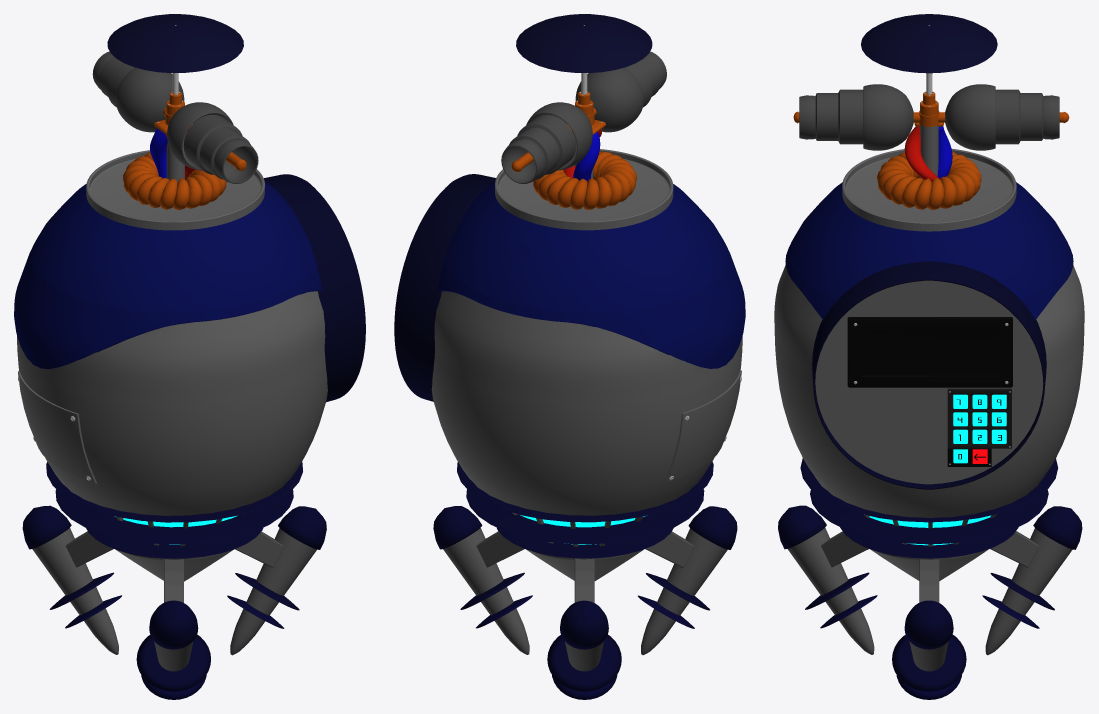
Rendered from Maquina Del Tiempo.fbx.
3 views of the same model, side by side, from view 1: azimuth 30°, elevation 25°; view 2: azimuth 150°, elevation 25°; view 3: azimuth 270°, elevation 25° (orthographic).
Visible parts, largest first — view 1: Cuerpo, Antena, Cara, TapaArriba, Pata2, Pata1, Pata3, Aro2, AnilloCobre, Aro3, Aro1, ConoAbajo (+1 smaller); view 2: Cuerpo, Antena, Cara, TapaArriba, Pata3, Pata2, Pata1, Aro2, AnilloCobre, Aro3, Aro1, ConoAbajo (+1 smaller); view 3: Cuerpo, Cara, Antena, Display, TapaArriba, Pata1, Pata3, Pata2, Aro2, AnilloCobre, Aro3, Aro1 (+2 smaller).
Part boxes in pixels (x1=…): Cuerpo: x1=14, y1=182, x2=327, y2=515; Antena: x1=92, y1=14, x2=258, y2=183; Cara: x1=264, y1=174, x2=365, y2=402; TapaArriba: x1=86, y1=120, x2=264, y2=230; Pata2: x1=227, y1=506, x2=326, y2=655; Pata1: x1=22, y1=505, x2=121, y2=654; Pata3: x1=136, y1=559, x2=210, y2=699; Aro2: x1=55, y1=489, x2=293, y2=544; AnilloCobre: x1=123, y1=152, x2=226, y2=209; Aro3: x1=46, y1=461, x2=302, y2=522; Aro1: x1=86, y1=528, x2=263, y2=558; ConoAbajo: x1=115, y1=549, x2=233, y2=581; Cuerpo: x1=431, y1=182, x2=745, y2=515; Antena: x1=501, y1=14, x2=666, y2=183; Cara: x1=394, y1=174, x2=495, y2=401; TapaArriba: x1=495, y1=120, x2=673, y2=230; Pata3: x1=638, y1=506, x2=737, y2=655; Pata2: x1=433, y1=506, x2=532, y2=654; Pata1: x1=547, y1=558, x2=621, y2=699; Aro2: x1=466, y1=489, x2=704, y2=544; AnilloCobre: x1=533, y1=151, x2=636, y2=209; Aro3: x1=457, y1=461, x2=713, y2=522; Aro1: x1=496, y1=527, x2=673, y2=558; ConoAbajo: x1=526, y1=549, x2=643, y2=580; Cuerpo: x1=774, y1=182, x2=1084, y2=517; Cara: x1=812, y1=261, x2=1046, y2=489; Antena: x1=793, y1=14, x2=1069, y2=150; Display: x1=847, y1=317, x2=1012, y2=387; TapaArriba: x1=842, y1=122, x2=1016, y2=231; Pata1: x1=982, y1=506, x2=1082, y2=655; Pata3: x1=778, y1=505, x2=877, y2=654; Pata2: x1=892, y1=559, x2=966, y2=699; Aro2: x1=810, y1=489, x2=1048, y2=544; AnilloCobre: x1=877, y1=151, x2=981, y2=209; Aro3: x1=800, y1=458, x2=1057, y2=522; Aro1: x1=840, y1=527, x2=1018, y2=558.
Bounding box in the file's own units: 208 × 441 × 193.
56 materials, 1 textured.
